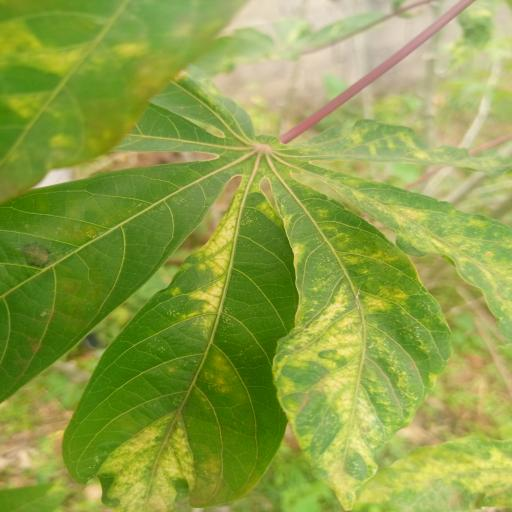Cassava_Mosaic: (0, 46, 512, 512)
